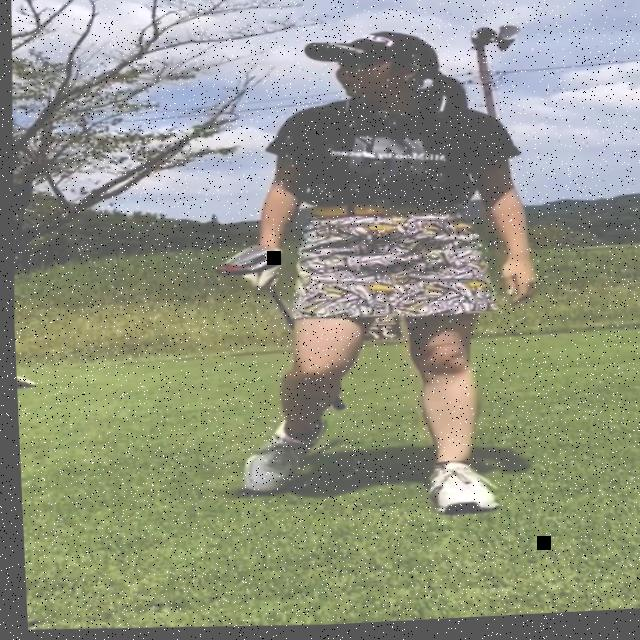ClubHead: (213, 245, 279, 279)
